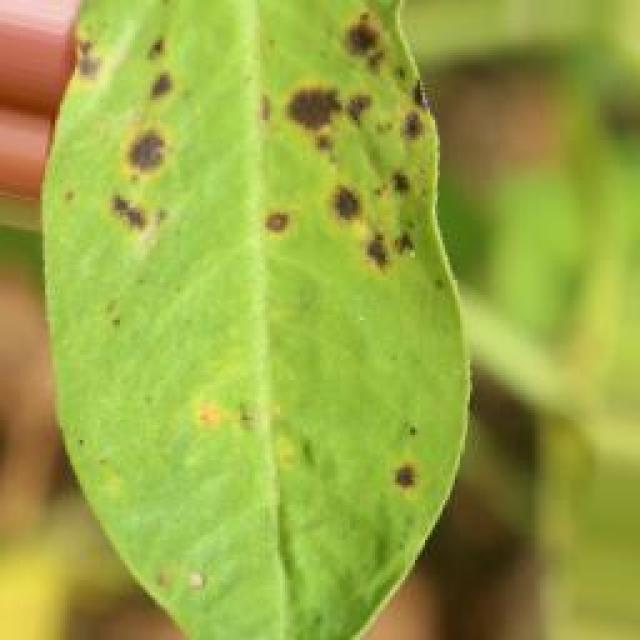Yellowish: (58, 0, 492, 525)
